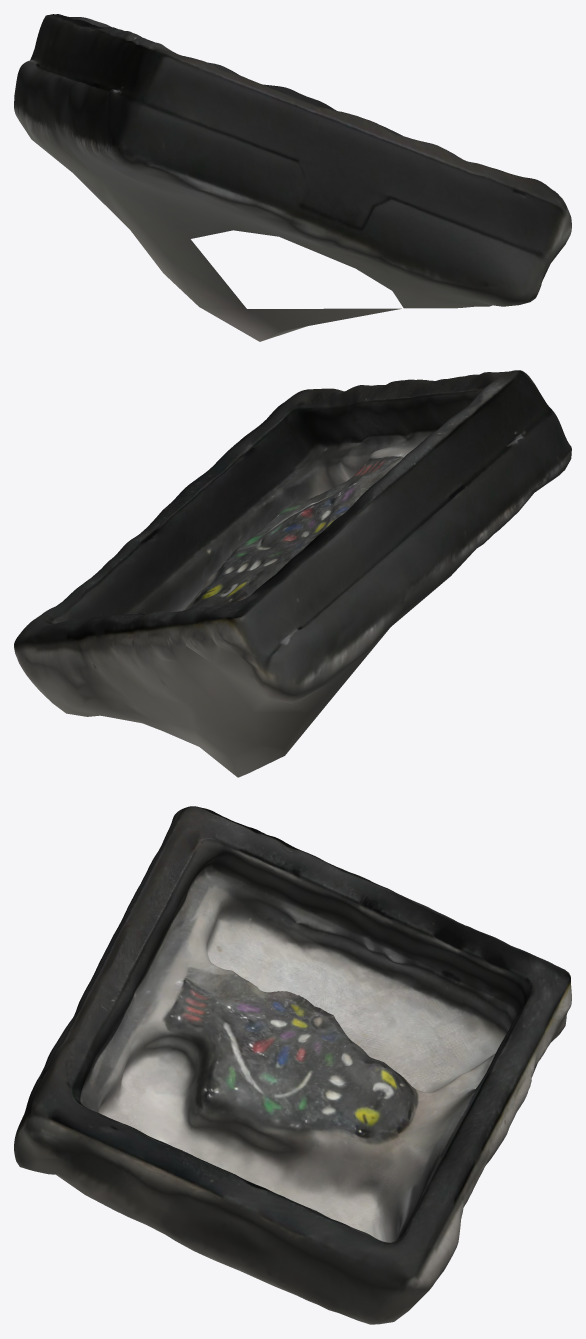
3 renders of one model, top to bottom at view 1: azimuth 30°, elevation 25°; view 2: azimuth 150°, elevation 25°; view 3: azimuth 270°, elevation 25°, orthographic. The views are drawn at different scales.
Size of the model in its own units: 0.6739 by 0.56 by 0.7508.
Materials: 1 (1 with a texture image).
